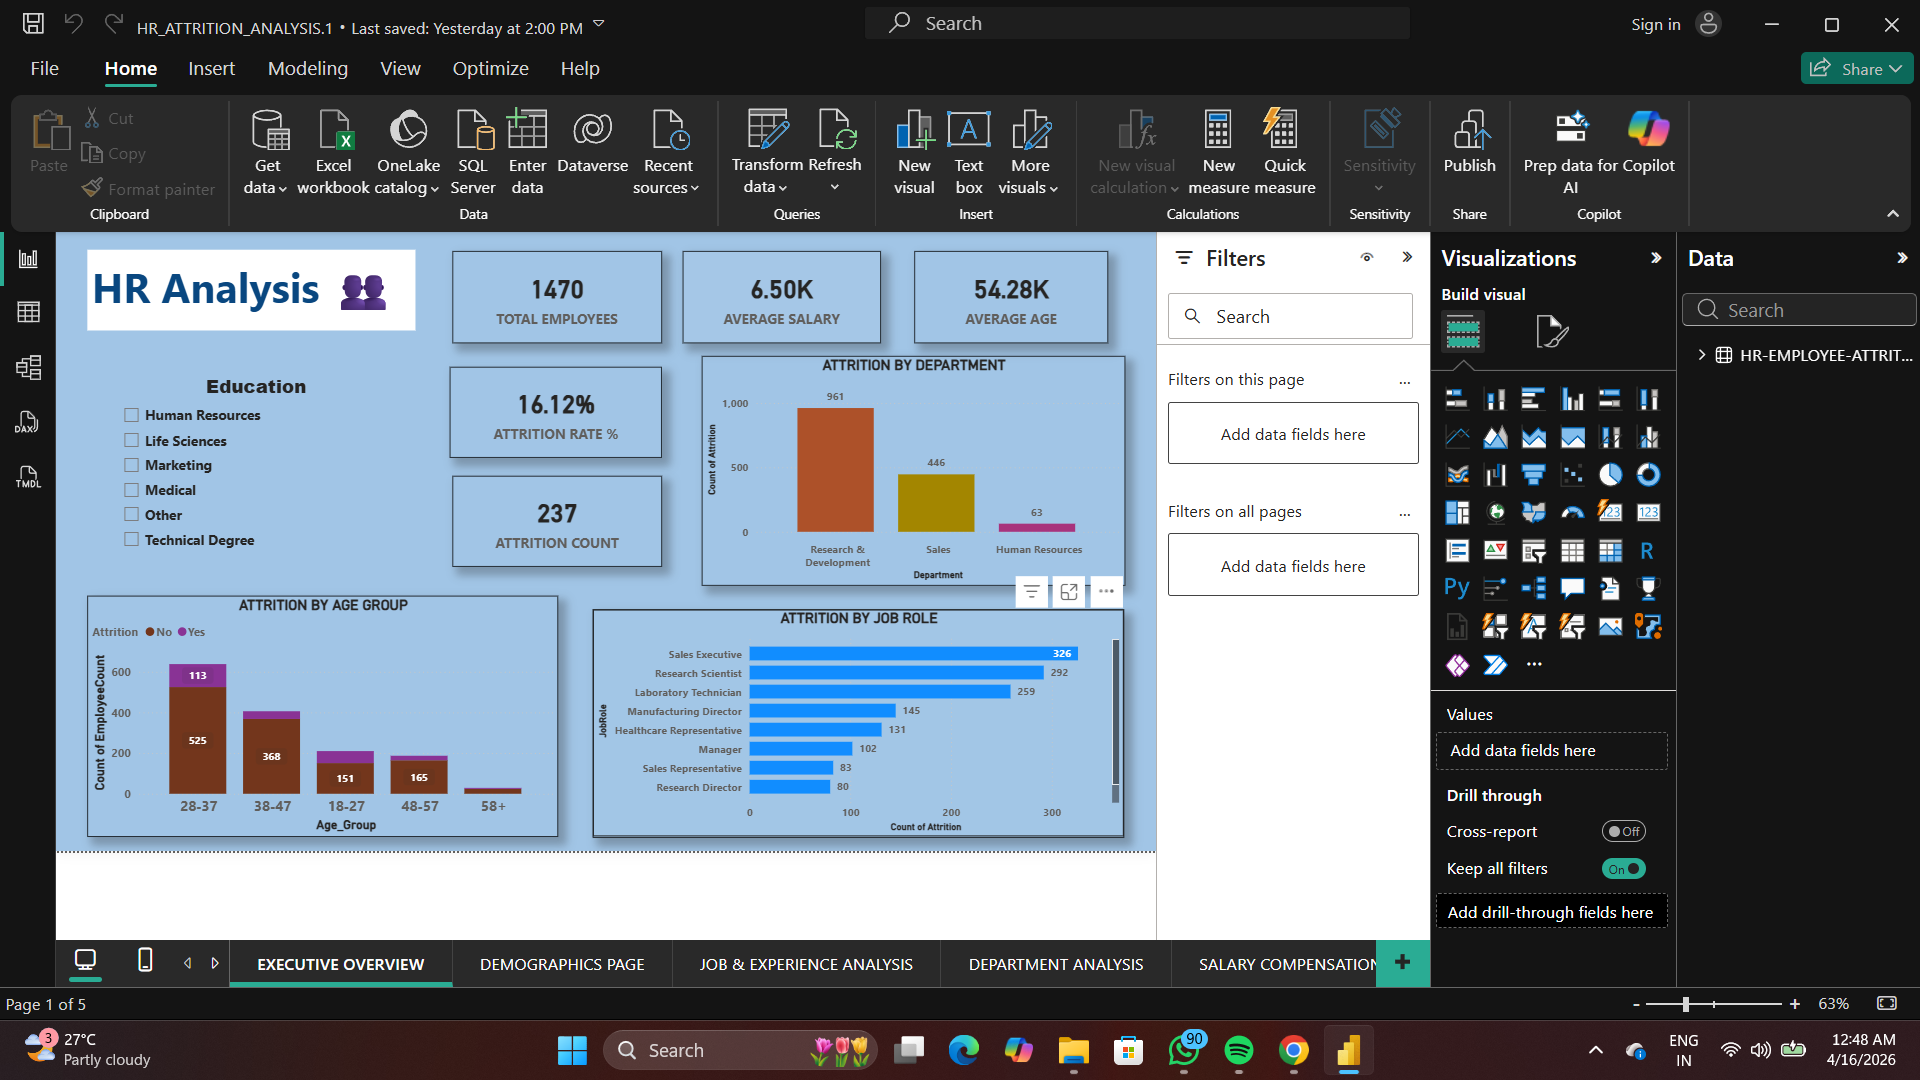

The page's visual inventory and layout, read from the dashboard file:
{"tool":"powerbi","page":{"name":"EXECUTIVE OVERVIEW","canvas":[1280,720],"ordinal":0},"visuals":[{"type":"columnChart","title":"ATTRITION BY DEPARTMENT","fields":{"Category":["-HR-Employee-Attrition_dataset.Department"],"Y":["CountNonNull(-HR-Employee-Attrition_dataset.Attrition)"]},"box":[750.9,144.5,492.2,267.1],"z":0},{"type":"clusteredBarChart","title":"ATTRITION BY JOB ROLE","fields":{"Category":["-HR-Employee-Attrition_dataset.JobRole"],"Y":["CountNonNull(-HR-Employee-Attrition_dataset.Attrition)"]},"box":[624.9,438.4,618.2,265.4],"z":1000},{"type":"columnChart","title":"ATTRITION BY AGE GROUP","fields":{"Category":["-HR-Employee-Attrition_dataset.Age_Group"],"Series":["-HR-Employee-Attrition_dataset.Attrition"],"Y":["CountNonNull(HR-EMPLOYEE-ATTRITION.EmployeeCount)"]},"box":[37,423.3,547.6,280.5],"z":2000},{"type":"card","fields":{"Values":["Sum(HR-EMPLOYEE-ATTRITION.EmployeeCount)"]},"box":[461.9,21.8,243.6,107.5],"z":3000},{"type":"card","fields":{"Values":["Sum(HR-EMPLOYEE-ATTRITION.Attrition Count)"]},"box":[461.9,283.9,243.6,105.8],"z":4000},{"type":"card","fields":{"Values":["HR-EMPLOYEE-ATTRITION.Attrition Rate"]},"box":[458.6,156.2,246.9,105.8],"z":5000},{"type":"card","fields":{"Values":["HR-EMPLOYEE-ATTRITION.Avg Salary"]},"box":[729,21.8,230.1,107.5],"z":6000},{"type":"card","fields":{"Values":["Sum(HR-EMPLOYEE-ATTRITION.Avg Age)"]},"box":[997.8,21.8,225.1,107.5],"z":7000},{"type":"textbox","box":[37,20.2,381.3,94.1],"z":8000},{"type":"slicer","title":"Education","fields":{"Values":["HR-EMPLOYEE-ATTRITION.EducationField"]},"box":[67.2,162.9,332.6,226.8],"z":9000}]}

Visuals, with their boxes on the page's 1280x720 design canvas (x1, y1, x2, y2). These are canvas units, not pixel positions in the 1920x1080 screenshot, which may show the page scaled, cropped or inside an application window:
"ATTRITION BY DEPARTMENT" columnChart: bbox=(751, 144, 1243, 412)
"ATTRITION BY JOB ROLE" clusteredBarChart: bbox=(625, 438, 1243, 704)
"ATTRITION BY AGE GROUP" columnChart: bbox=(37, 423, 585, 704)
card - Sum(HR-EMPLOYEE-ATTRITION.EmployeeCount): bbox=(462, 22, 706, 129)
card - Sum(HR-EMPLOYEE-ATTRITION.Attrition Count): bbox=(462, 284, 706, 390)
card - HR-EMPLOYEE-ATTRITION.Attrition Rate: bbox=(459, 156, 706, 262)
card - HR-EMPLOYEE-ATTRITION.Avg Salary: bbox=(729, 22, 959, 129)
card - Sum(HR-EMPLOYEE-ATTRITION.Avg Age): bbox=(998, 22, 1223, 129)
textbox: bbox=(37, 20, 418, 114)
"Education" slicer: bbox=(67, 163, 400, 390)
